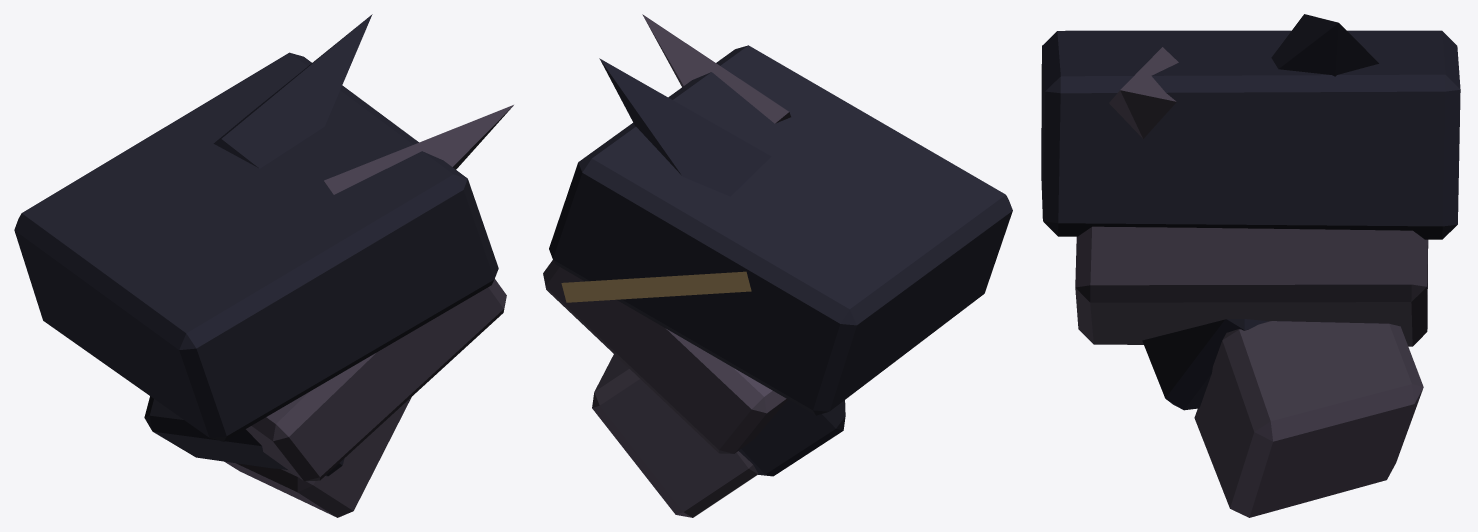
Rendered from soberano_braco_dir.fbx.
The picture shows the model from 3 angles, left to right: view 1: azimuth 30°, elevation 25°; view 2: azimuth 150°, elevation 25°; view 3: azimuth 270°, elevation 25°; orthographic projection. The views are drawn at different scales.
Visible parts, largest first — view 1: soberano_braco_dir; view 2: soberano_braco_dir; view 3: soberano_braco_dir.
Boxes of the visible parts, <box> form: soberano_braco_dir: <box>14,14,513,517</box>; soberano_braco_dir: <box>543,14,1012,517</box>; soberano_braco_dir: <box>1041,14,1460,517</box>.
Bounding box in the file's own units: 2.24 × 2.69 × 1.93.
